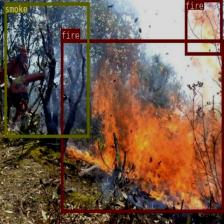fire: (60, 39, 224, 212), (184, 0, 222, 55)
smoke: (4, 2, 89, 137)
